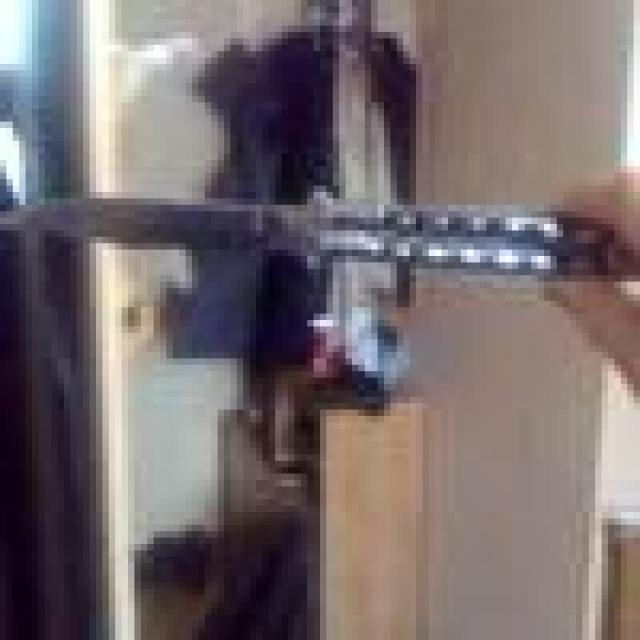knife: (0, 204, 601, 266)
